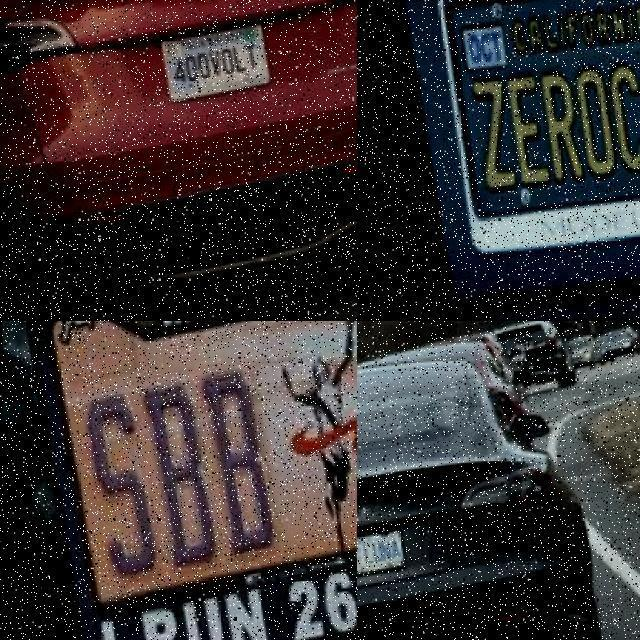LicensePlate: (75, 320, 357, 585), (429, 0, 640, 272), (159, 23, 270, 103), (356, 528, 405, 577)
